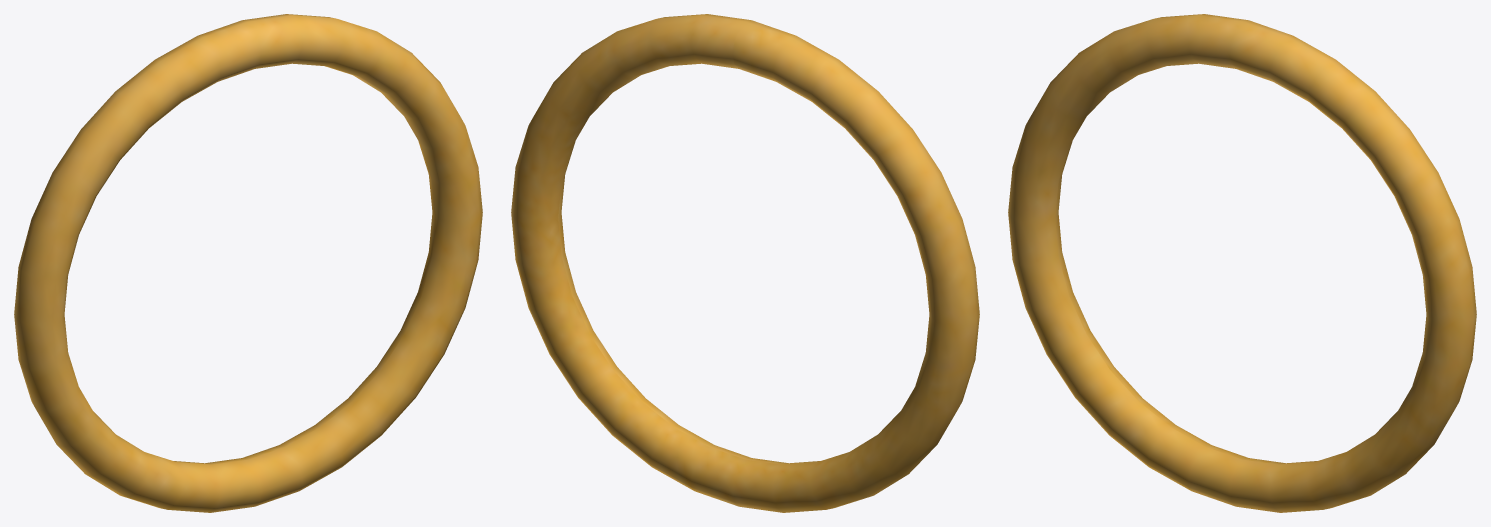
File: Ring.fbx
3 views of the same model, side by side, from view 1: azimuth 30°, elevation 25°; view 2: azimuth 150°, elevation 25°; view 3: azimuth 330°, elevation 25° (orthographic).
Parts seen in each view (by area): view 1: Circle; view 2: Circle; view 3: Circle.
Part boxes in pixels (x1,y1,x2,y2): Circle: (14, 14, 482, 512); Circle: (511, 14, 979, 512); Circle: (1008, 14, 1476, 512).
Bounding box in the file's own units: 11030 × 11030 × 1063.
